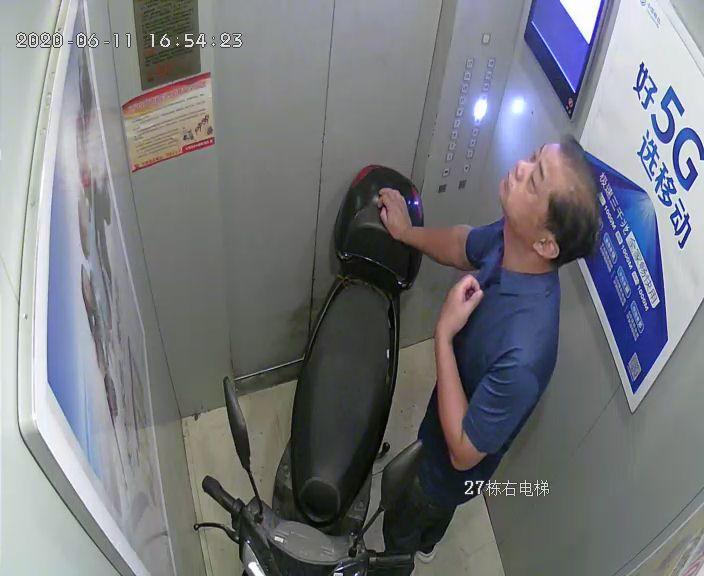Electric-bicycle: (253, 168, 417, 575)
